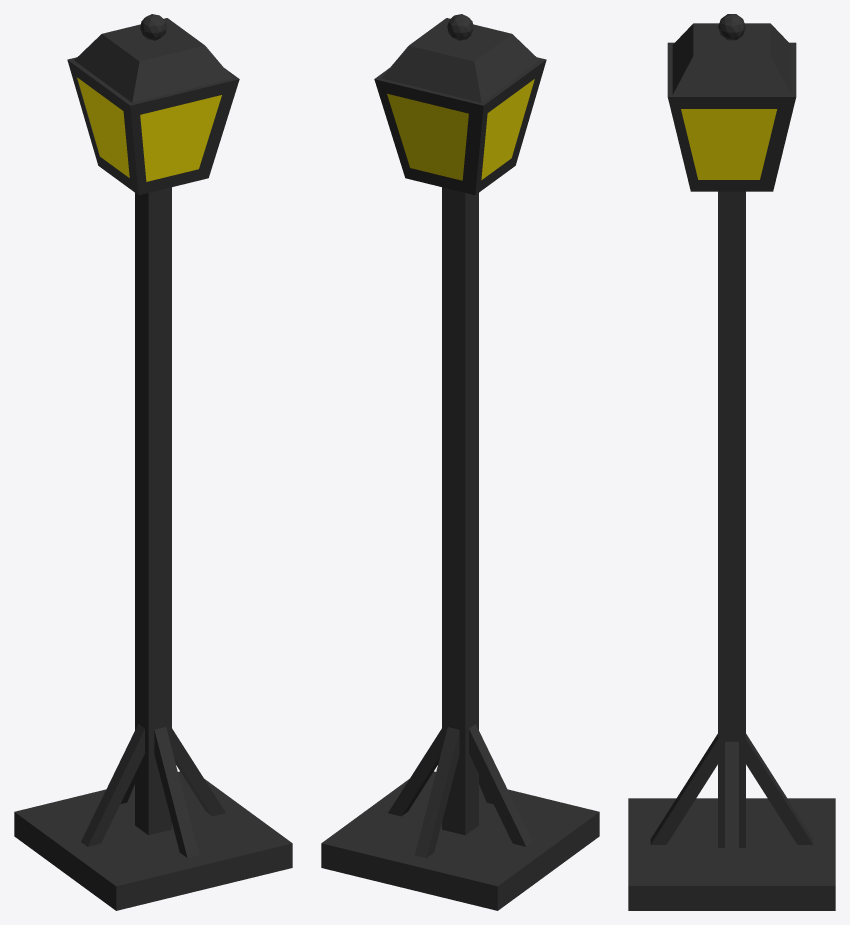
File: lamppost.glb
The picture shows the model from 3 angles, left to right: view 1: azimuth 30°, elevation 25°; view 2: azimuth 150°, elevation 25°; view 3: azimuth 270°, elevation 25°; orthographic projection.
Parts seen in each view (by area): view 1: Cube, Cube.001, Cube.006, Cube.007, Cube.008, Cube.002, Cube.004, Cube.005; view 2: Cube, Cube.001, Cube.006, Cube.007, Cube.008, Cube.003, Cube.004, Cube.005; view 3: Cube.001, Cube, Cube.006, Cube.007, Cube.008, Cube.002, Cube.003, Cube.005, Icosphere.
Boxes of the visible parts, <box> form: Cube: <box>135,187,171,835</box>; Cube.001: <box>14,771,292,910</box>; Cube.006: <box>74,18,232,102</box>; Cube.007: <box>77,77,221,181</box>; Cube.008: <box>67,57,239,195</box>; Cube.002: <box>154,727,198,858</box>; Cube.004: <box>81,724,144,846</box>; Cube.005: <box>172,728,225,816</box>; Cube: <box>442,187,478,835</box>; Cube.001: <box>321,771,599,910</box>; Cube.006: <box>381,18,539,102</box>; Cube.007: <box>387,79,534,180</box>; Cube.008: <box>374,57,546,195</box>; Cube.003: <box>415,727,459,858</box>; Cube.004: <box>469,724,532,846</box>; Cube.005: <box>388,728,441,816</box>; Cube.001: <box>628,798,835,910</box>; Cube: <box>718,191,745,847</box>; Cube.006: <box>672,23,791,94</box>; Cube.007: <box>681,109,777,179</box>; Cube.008: <box>667,42,796,191</box>; Cube.002: <box>650,734,717,844</box>; Cube.003: <box>746,734,813,844</box>; Cube.005: <box>725,741,738,876</box>; Icosphere: <box>718,14,745,40</box>.
Size of the model in its own units: 1.5 by 6.8 by 1.5.
10 materials, 10 textured.
